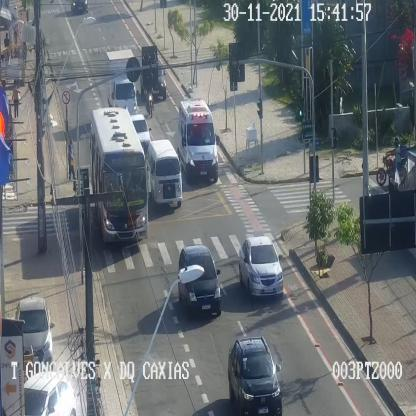bus: (91, 106, 149, 249)
car: (230, 335, 283, 416), (179, 99, 220, 182), (178, 244, 222, 318), (238, 234, 286, 298), (16, 298, 57, 366), (147, 138, 184, 209), (22, 374, 76, 416)
motorbike: (376, 137, 410, 185)
person: (68, 138, 76, 179), (12, 83, 21, 119)
truck: (105, 49, 137, 112)
